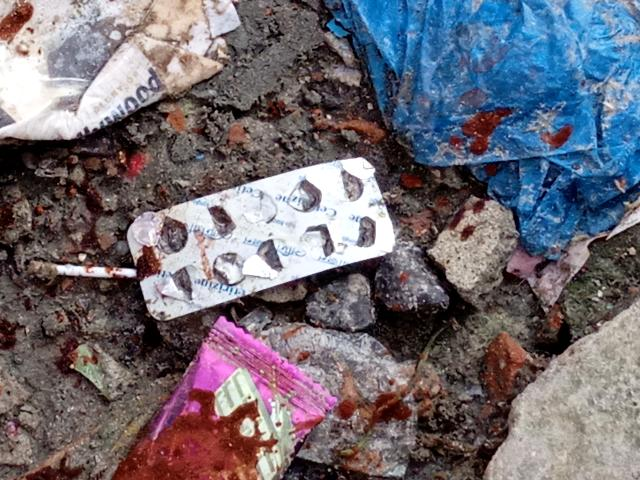medicine: (110, 138, 400, 325)
